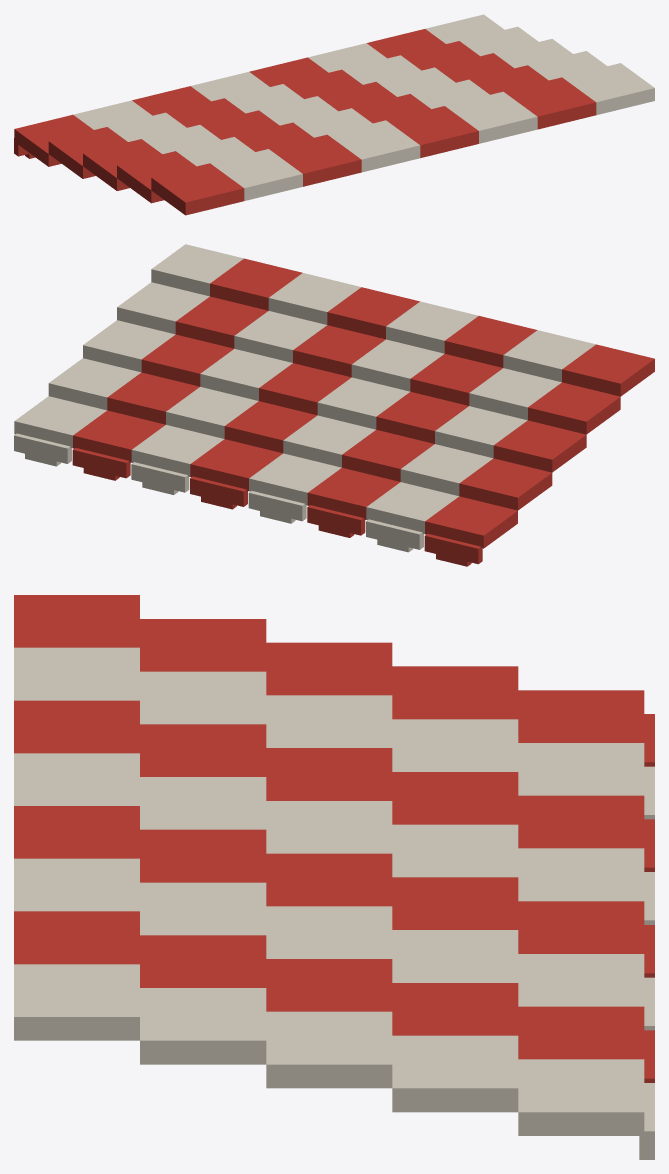
Rendered from cp-awning-red.glb.
3 renders of one model, top to bottom at view 1: azimuth 30°, elevation 25°; view 2: azimuth 150°, elevation 25°; view 3: azimuth 270°, elevation 25°, orthographic. The views are drawn at different scales.
Visible parts, largest first — view 1: box-prop; view 2: box-prop; view 3: box-prop.
Part boxes in pixels (left/top/right/bottom): box-prop: left=14, top=14, right=654, bottom=215; box-prop: left=14, top=244, right=654, bottom=566; box-prop: left=14, top=595, right=654, bottom=1159.
Bounding box in the file's own units: 7.6 × 1.3 × 4.88.
